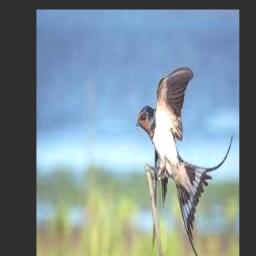Swallow: (137, 68, 233, 256)
